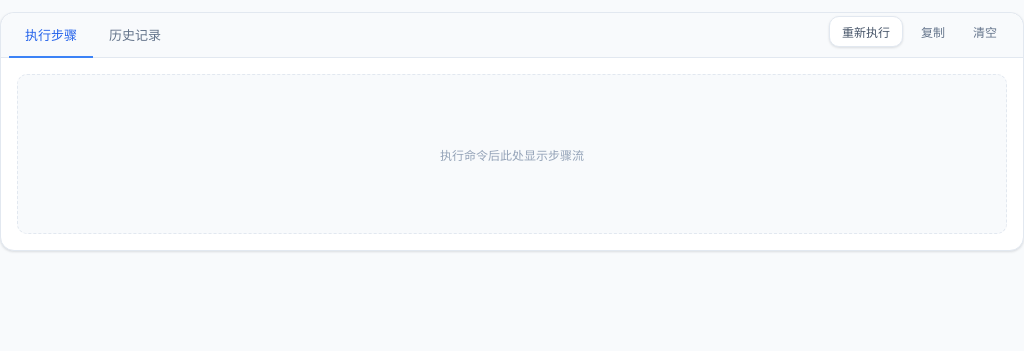
Test: HistoryPanel › StepsPanel 内「清空记录」：调 clearExecutions 后重新加载并回到第 1 页
Click the button with test id "panel-tab" showing "历史记录". click: (135, 36)
box: [93,13,177,58]
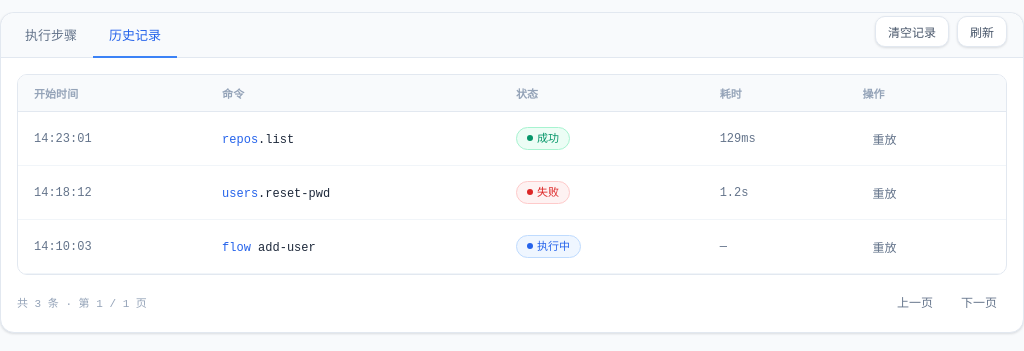
Expected: the number of rows with test id "history-row" is 3, [18,112,1006,166]; [18,166,1006,220]; [18,220,1006,274]
Click the button with test id "clear-history-button". click: (912, 31)
box: [875,16,949,46]
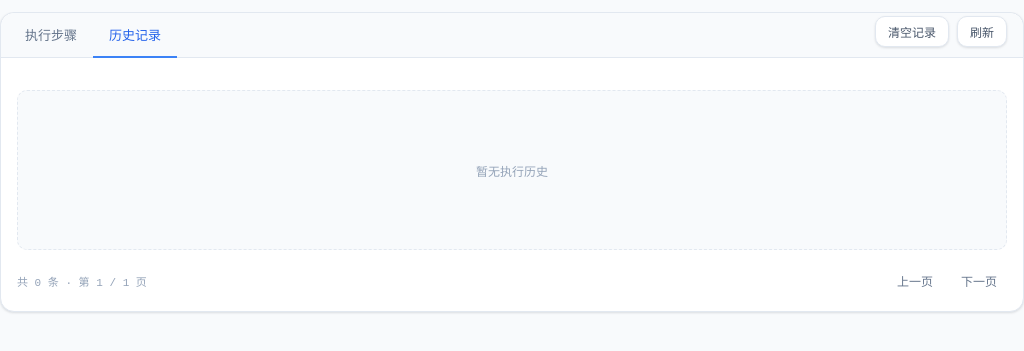
Expected: the text "暂无执行历史" is shown, [17,90,1007,250]
